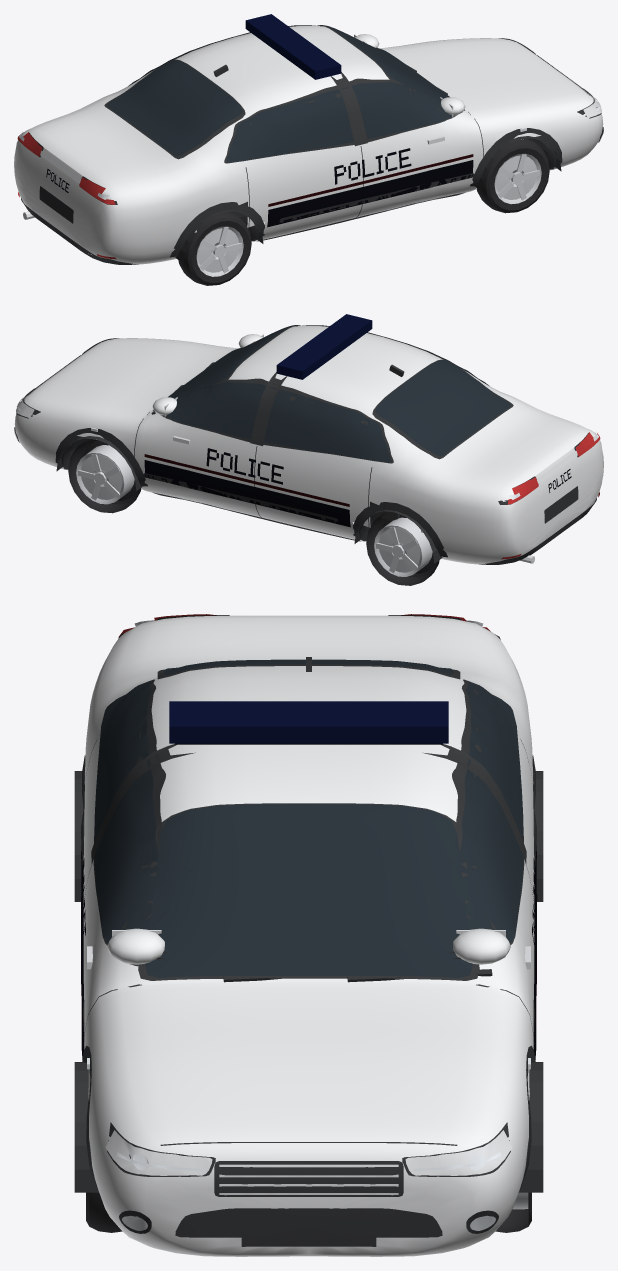
The model's file is police_pn.glb.
The picture shows the model from 3 angles, top to bottom: view 1: azimuth 30°, elevation 25°; view 2: azimuth 150°, elevation 25°; view 3: azimuth 270°, elevation 25°; orthographic projection. The views are drawn at different scales.
Visible parts, largest first — view 1: Body, Glass-1, RearGlass, WheelFR, WheelRR, PNBand-1, LightBar, Windshield, WinFrame-1, ArchTrim-1.001, ArchTrim-1, Bpillar-1 (+8 smaller); view 2: Body, Glass1, RearGlass, WheelFL, WheelRL, PNBand1, LightBar, Windshield, WinFrame1, ArchTrim1.001, ArchTrim1, Bpillar1 (+8 smaller); view 3: Body, Windshield, Glass1, Glass-1, LightBar, Intake, Grille, HeadReflector, ArchLiner, ArchLiner.001, WsFrame, Mirror1 (+12 smaller).
Part boxes in pixels (x1=…): Body: x1=14, y1=26, x2=603, y2=264; Glass-1: x1=226, y1=82, x2=453, y2=162; RearGlass: x1=107, y1=60, x2=242, y2=156; WheelFR: x1=476, y1=139, x2=549, y2=213; WheelRR: x1=178, y1=211, x2=251, y2=285; PNBand-1: x1=267, y1=160, x2=473, y2=227; LightBar: x1=245, y1=14, x2=341, y2=79; Windshield: x1=320, y1=25, x2=449, y2=100; WinFrame-1: x1=224, y1=78, x2=456, y2=163; ArchTrim-1.001: x1=170, y1=202, x2=264, y2=257; ArchTrim-1: x1=470, y1=128, x2=562, y2=186; Bpillar-1: x1=331, y1=72, x2=367, y2=146; Body: x1=14, y1=326, x2=603, y2=564; Glass1: x1=164, y1=380, x2=391, y2=462; RearGlass: x1=375, y1=360, x2=510, y2=456; WheelFL: x1=68, y1=439, x2=141, y2=513; WheelRL: x1=366, y1=511, x2=439, y2=585; PNBand1: x1=144, y1=460, x2=350, y2=527; LightBar: x1=276, y1=314, x2=372, y2=379; Windshield: x1=168, y1=325, x2=297, y2=400; WinFrame1: x1=161, y1=378, x2=393, y2=463; ArchTrim1.001: x1=353, y1=502, x2=447, y2=557; ArchTrim1: x1=55, y1=428, x2=147, y2=486; Bpillar1: x1=250, y1=372, x2=286, y2=446; Body: x1=83, y1=615, x2=534, y2=1256; Windshield: x1=145, y1=804, x2=472, y2=977; Glass1: x1=425, y1=681, x2=523, y2=943; Glass-1: x1=94, y1=681, x2=193, y2=943; LightBar: x1=169, y1=701, x2=448, y2=743; Intake: x1=175, y1=1208, x2=442, y2=1237; Grille: x1=214, y1=1161, x2=403, y2=1196; HeadReflector: x1=105, y1=1130, x2=512, y2=1175; ArchLiner: x1=519, y1=1062, x2=543, y2=1192; ArchLiner.001: x1=74, y1=1062, x2=98, y2=1192; WsFrame: x1=138, y1=803, x2=479, y2=980; Mirror1: x1=453, y1=928, x2=510, y2=964.
Size of the model in its own units: 4.71 by 1.53 by 1.88.
